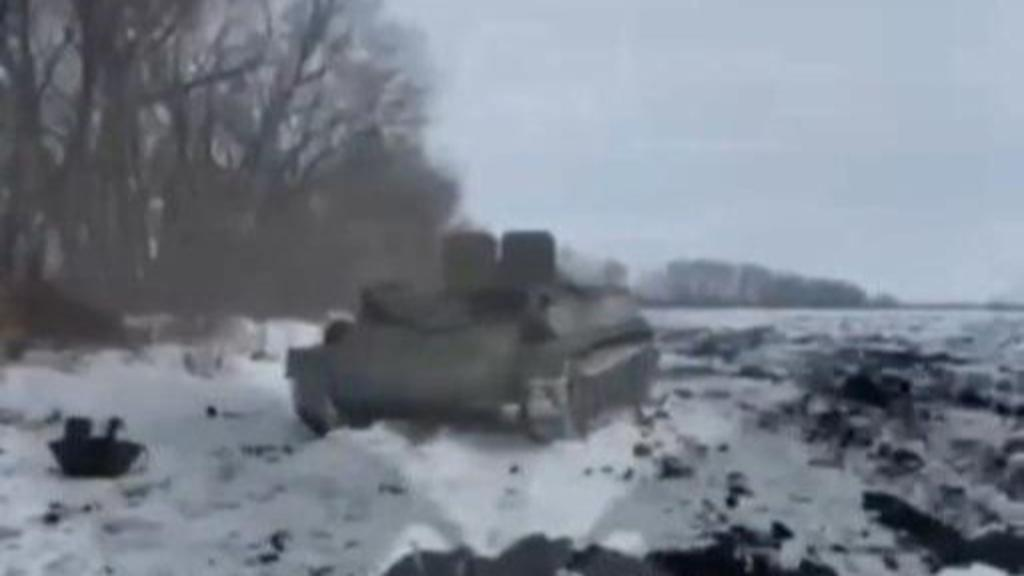APC-IFV: (280, 218, 668, 450)
